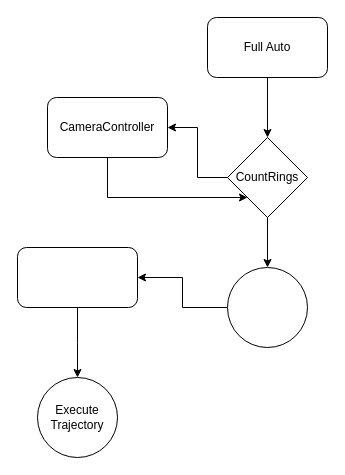
The diagram is 345 pixels wide and 475 high, and some of its shapes have lost their labels. Each missing label, with the centre of its shape:
Pick Trajectory: (x=267, y=307)
TrajectoryController: (x=77, y=277)
